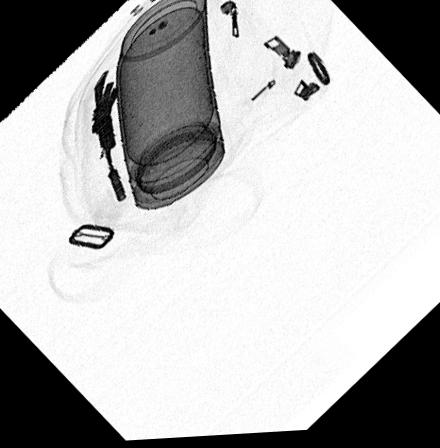Gun: (89, 67, 132, 205)
